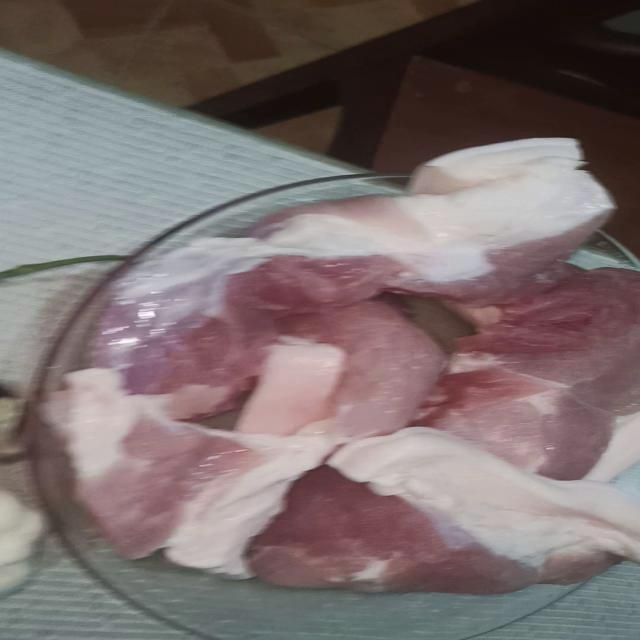pork: (294, 435, 617, 605), (45, 382, 303, 583), (317, 147, 604, 298), (444, 275, 640, 475), (128, 230, 294, 413), (299, 305, 436, 438)
